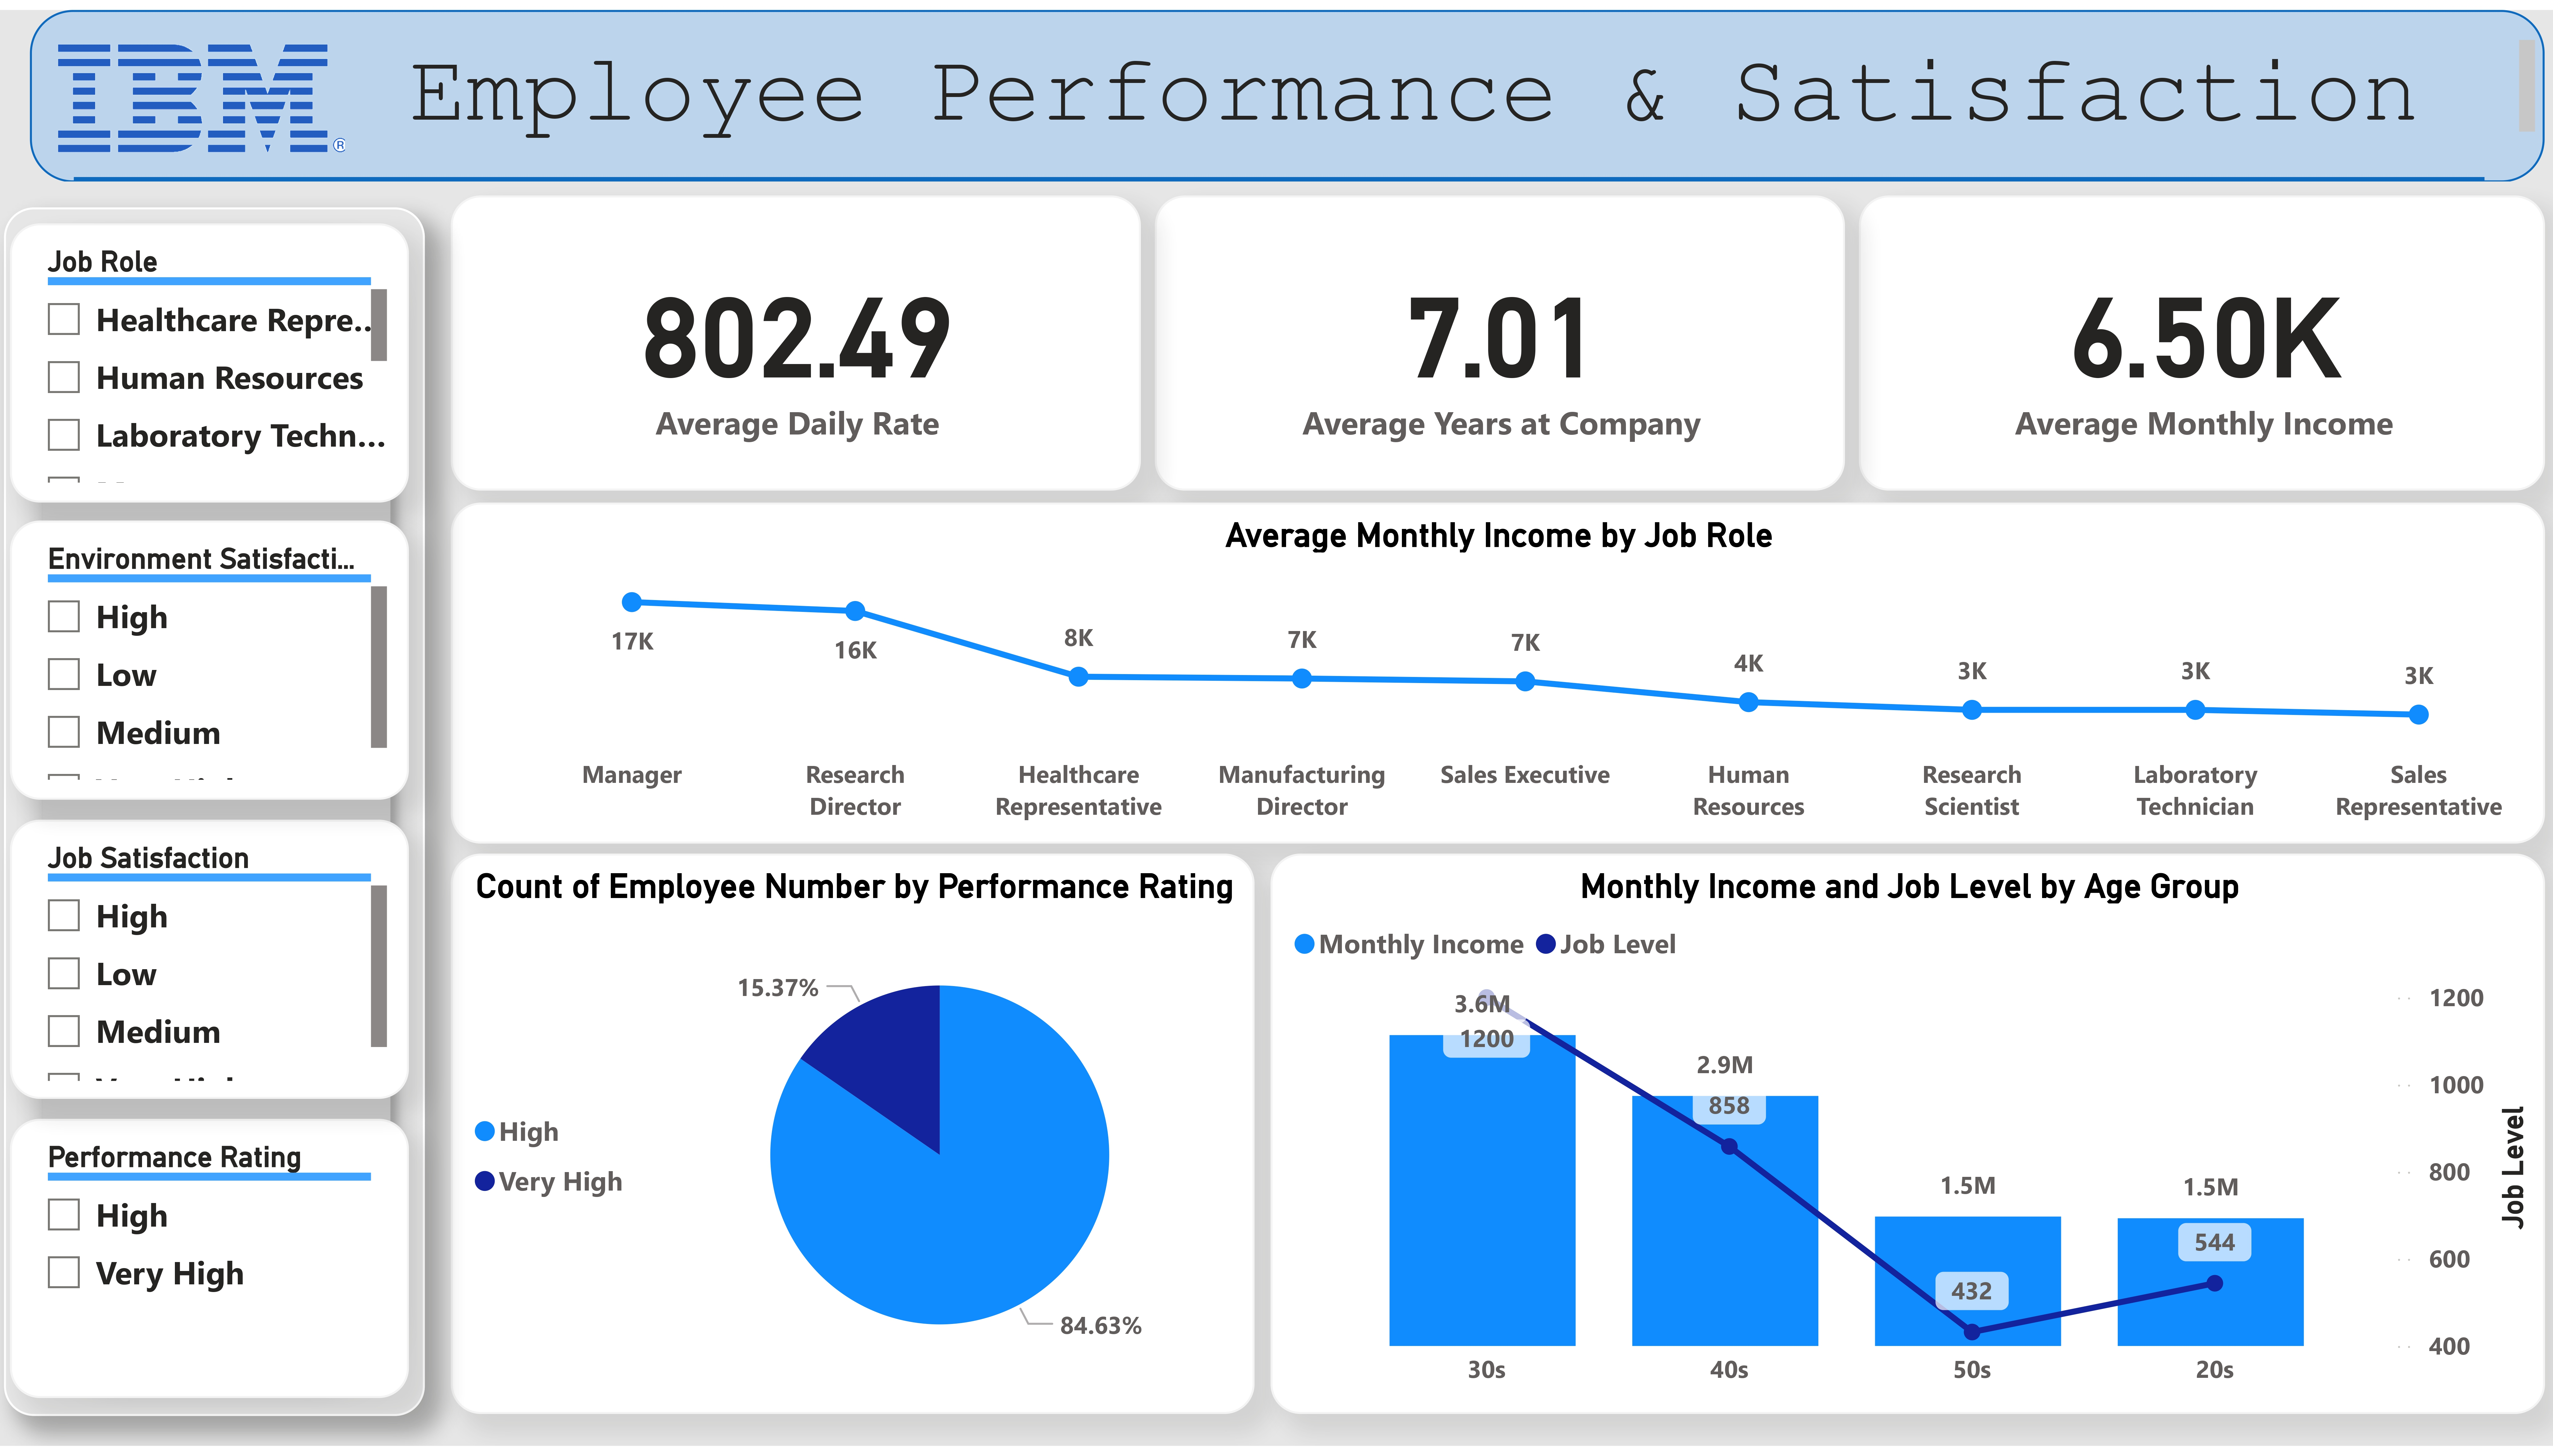

Layout of this report page (visuals, bound fields, positions):
{"tool":"powerbi","page":{"name":"Employee Performance and Satisfaction","canvas":[1280,720],"ordinal":1},"visuals":[{"type":"card","fields":{"Values":["Cleaned_Employee_Data.Monthly Income"]},"box":[931.5,93.3,344.4,148.2],"z":0},{"type":"card","fields":{"Values":["Cleaned_Employee_Data.Years At Company"]},"box":[579,93.3,345.7,148.2],"z":250},{"type":"card","fields":{"Values":["Cleaned_Employee_Data.Daily Rate"]},"box":[226,93.3,345.7,148.2],"z":375},{"type":"lineChart","title":"Average Monthly Income by Job Role","fields":{"Category":["Cleaned_Employee_Data.Job Role"],"Y":["Cleaned_Employee_Data.Monthly Income"]},"box":[226.4,246.9,1049.5,171.5],"z":437},{"type":"pieChart","fields":{"Category":["Cleaned_Employee_Data.Performance Rating"],"Y":["Cleaned_Employee_Data.Employee Number"]},"box":[226.4,422.6,403.3,281.2],"z":468},{"type":"lineStackedColumnComboChart","fields":{"Category":["Cleaned_Employee_Data.Age Group"],"Y":["Cleaned_Employee_Data.Monthly Income"],"Y2":["Cleaned_Employee_Data.Job Level"]},"box":[636.6,423,639.3,281.2],"z":484},{"type":"shape","box":[2,99,211.3,606.4],"z":500},{"type":"shape","box":[15.1,0,1260.8,86.4],"z":1000},{"type":"slicer","fields":{"Values":["Cleaned_Employee_Data.Job Role"]},"box":[5,107,200.3,139.9],"z":2000},{"type":"slicer","fields":{"Values":["Cleaned_Employee_Data.Performance Rating"]},"box":[5,556,200,140],"z":3000},{"type":"slicer","fields":{"Values":["Cleaned_Employee_Data.Job Satisfaction"]},"box":[5,406,200,140],"z":4000},{"type":"slicer","fields":{"Values":["Cleaned_Employee_Data.Environment Satisfaction"]},"box":[5.5,256,200.3,139.9],"z":5000},{"type":"shape","box":[37,9.6,1208.7,149.5],"z":12000},{"type":"textbox","box":[200.3,9.6,1075.6,60.4],"z":13000},{"type":"image","box":[0,0,200.3,86.4],"z":14000}]}

Visuals, with their boxes in screenshot pixels (x1, y1, x2, y2), scaled from the page's 1280x720 canvas onto the 2553x1456 screenshot:
card - Cleaned_Employee_Data.Monthly Income: bbox(1858, 189, 2545, 488)
card - Cleaned_Employee_Data.Years At Company: bbox(1155, 189, 1844, 488)
card - Cleaned_Employee_Data.Daily Rate: bbox(451, 189, 1140, 488)
"Average Monthly Income by Job Role" lineChart: bbox(452, 499, 2545, 846)
pieChart - Cleaned_Employee_Data.Performance Rating x Cleaned_Employee_Data.Employee Number: bbox(452, 855, 1256, 1423)
lineStackedColumnComboChart - Cleaned_Employee_Data.Age Group x Cleaned_Employee_Data.Monthly Income: bbox(1270, 855, 2545, 1424)
shape: bbox(4, 200, 425, 1426)
shape: bbox(30, 0, 2545, 175)
slicer - Cleaned_Employee_Data.Job Role: bbox(10, 216, 409, 499)
slicer - Cleaned_Employee_Data.Performance Rating: bbox(10, 1124, 409, 1408)
slicer - Cleaned_Employee_Data.Job Satisfaction: bbox(10, 821, 409, 1104)
slicer - Cleaned_Employee_Data.Environment Satisfaction: bbox(11, 518, 410, 801)
shape: bbox(74, 19, 2485, 322)
textbox: bbox(400, 19, 2545, 142)
image: bbox(0, 0, 400, 175)
